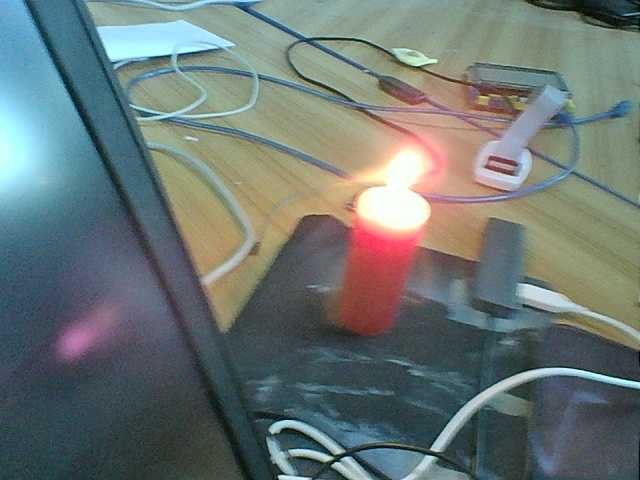candle: (343, 212, 415, 337)
fire: (364, 150, 431, 213)
